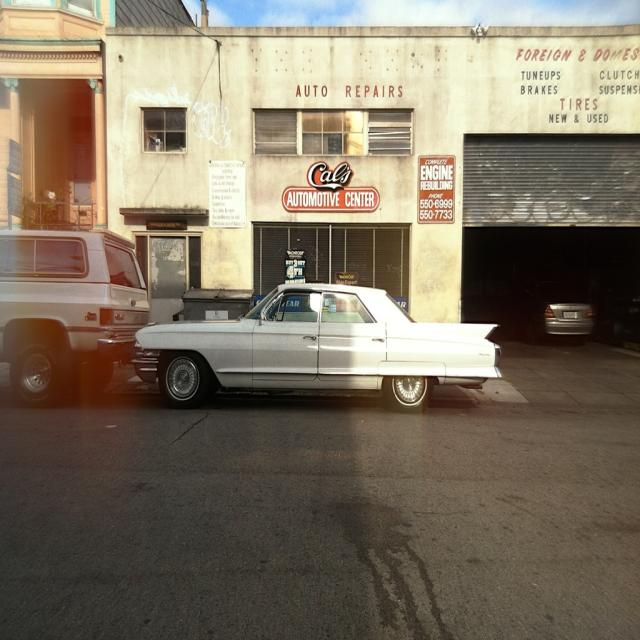car: (124, 276, 503, 413), (521, 291, 593, 331)
